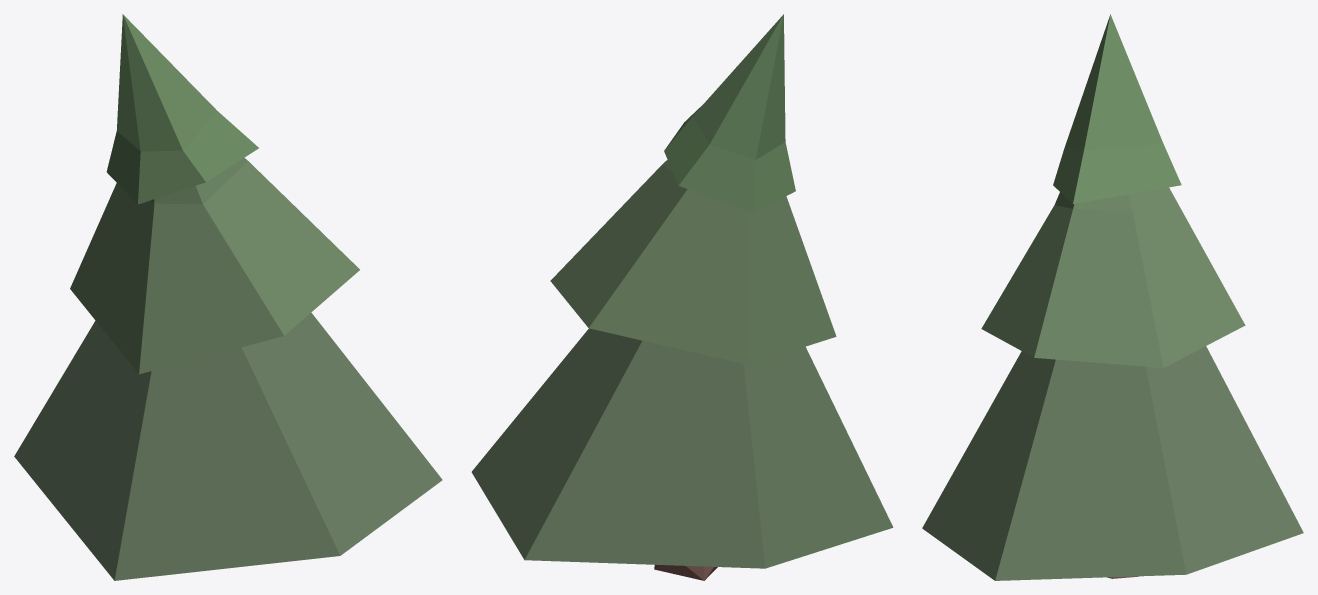
Rendered from spruce5.fbx.
3 views of the same model, side by side, from view 1: azimuth 30°, elevation 25°; view 2: azimuth 150°, elevation 25°; view 3: azimuth 270°, elevation 25° (orthographic). The views are drawn at different scales.
Parts seen in each view (by area): view 1: Cone.007; view 2: Cone.007; view 3: Cone.007.
Boxes of the visible parts, x1,y1,x2,y2 form: Cone.007: (14,14,442,580); Cone.007: (471,14,893,580); Cone.007: (922,14,1303,580).
Bounding box in the file's own units: 569 × 947 × 637.
1 material, 1 textured.
